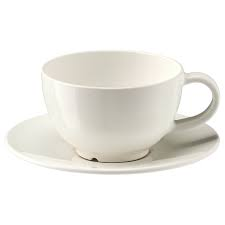cup: (39, 49, 221, 163)
